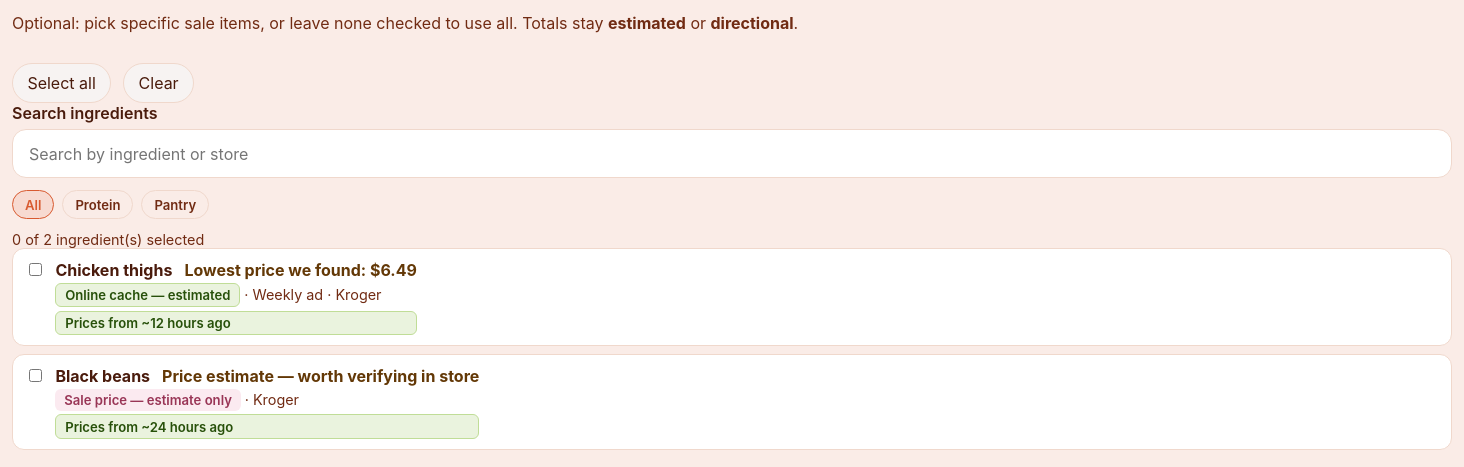
it: SaleIngredientPicker › filters rows by search query
Type "beans" into the search field labelled "Search ingredients" at {"x": 732, "y": 154}, box 12,129 -> 1452,178
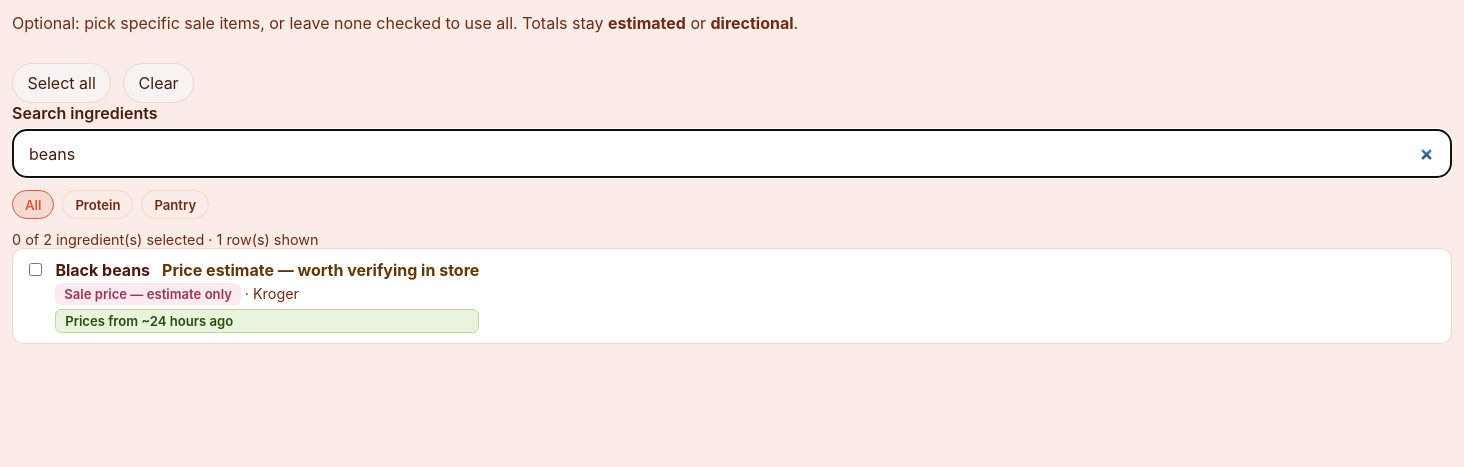
Check: the text "Black beans" is shown, box 55,260 -> 150,280
Check: the text "Chicken thighs" is gone
